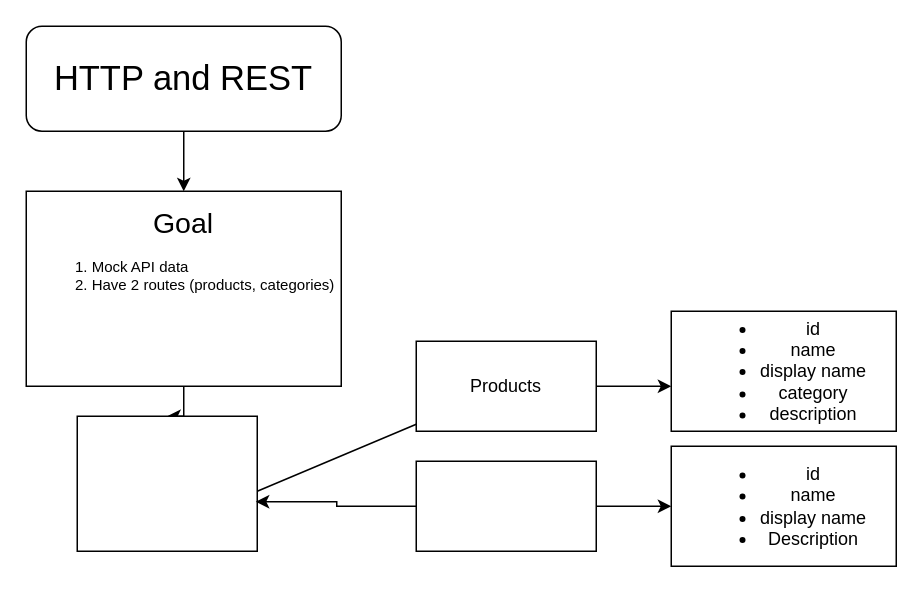
This 923x594 diagram has some shape labels left out. Here are the shapes that lost their labels. From the top down, the centre of each, then its label:
(x=166, y=483): DB.json
(x=505, y=505): Categories
